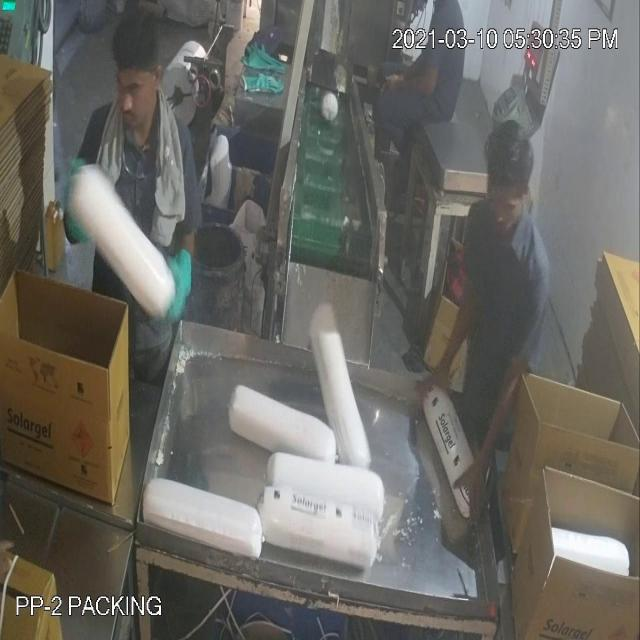No_Gloves: (74, 162, 493, 434)
